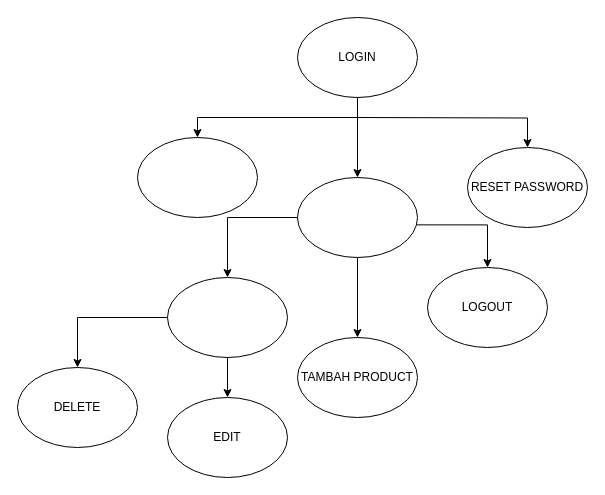
This 605x495 diagram has some shape labels left out. Each missing label, with the centre of its shape:
"DASHBOARD" goes at point 357,217.
"KATALOG" goes at point 227,317.
"REGISTER" goes at point 197,177.
